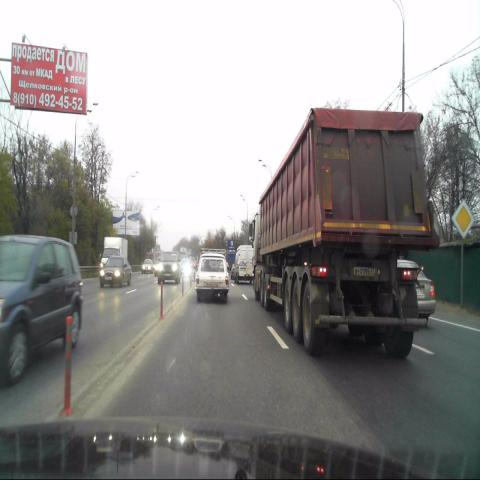2_1: (452, 201, 472, 239)
